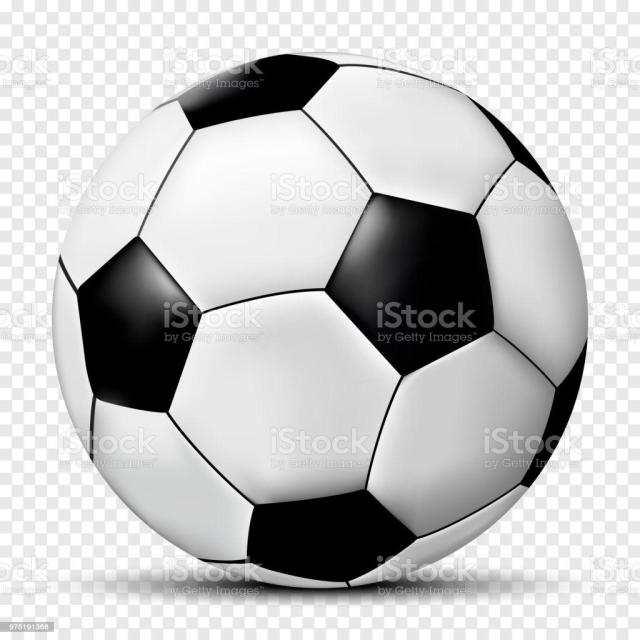Soccer Ball: (55, 52, 590, 590)
